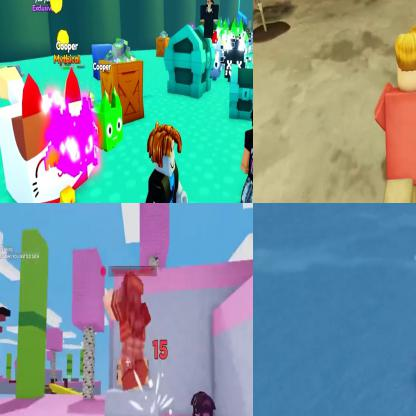Roblox-Avatar: (374, 25, 416, 203), (105, 272, 153, 393), (144, 123, 189, 203), (240, 92, 253, 203)
